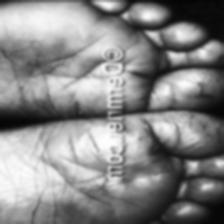Non-Cancerous Skin Condition: (144, 111, 188, 142), (183, 76, 220, 101), (66, 100, 86, 118)
